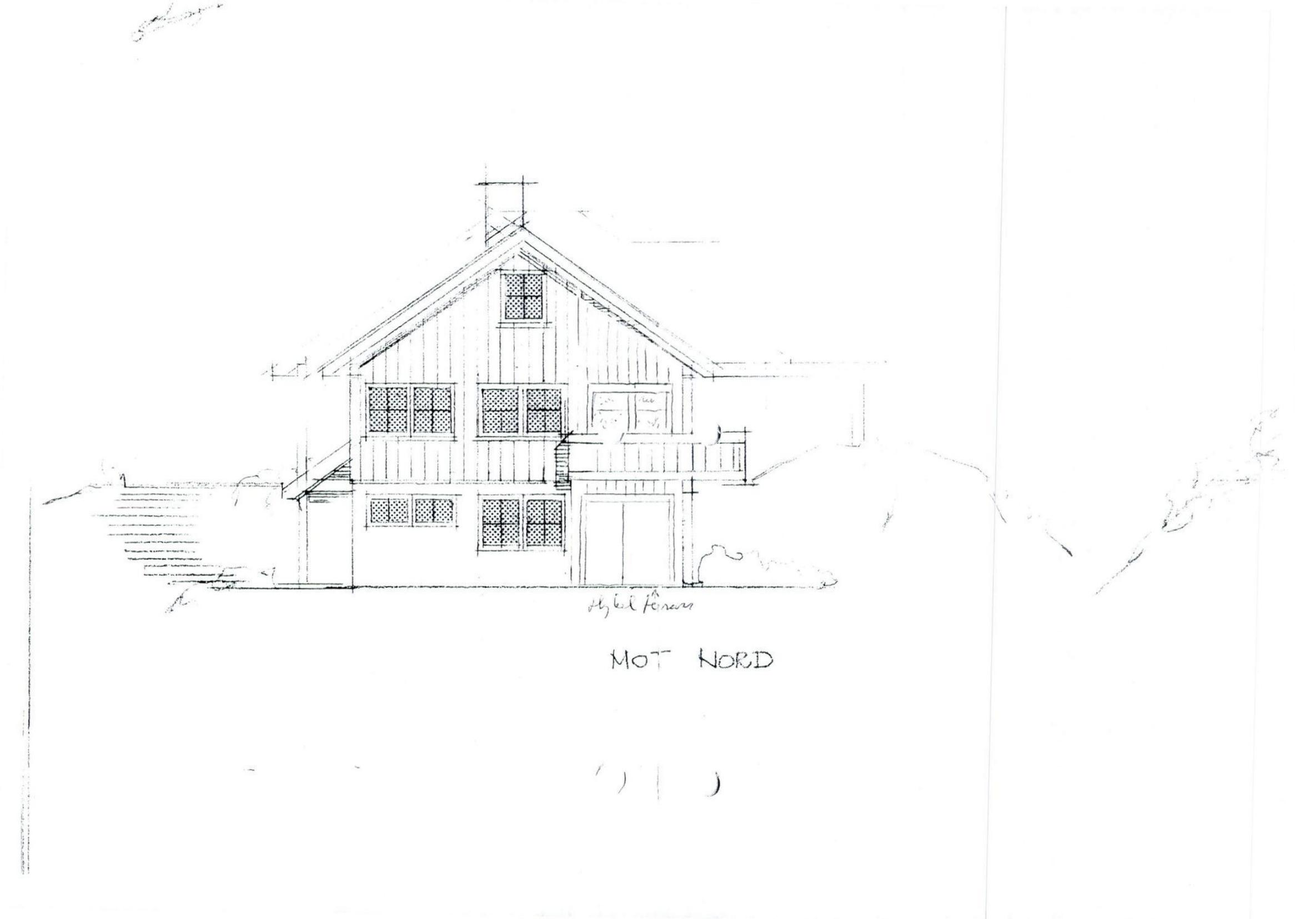fasade: (287, 169, 764, 597)
